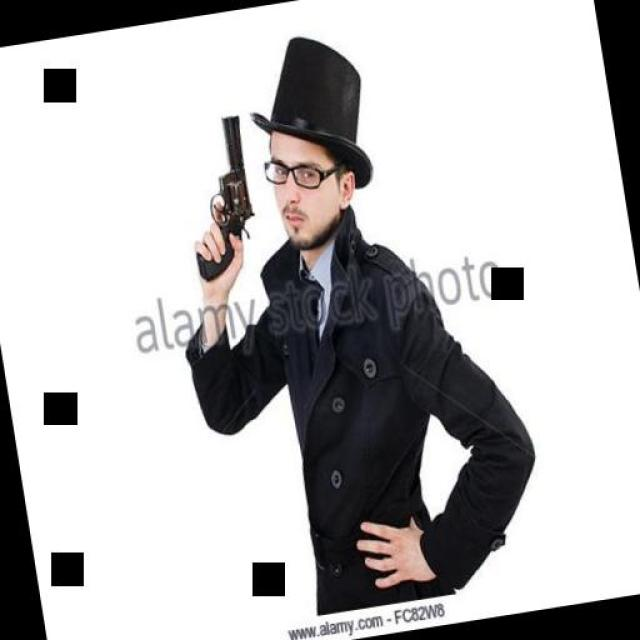gun: (172, 112, 266, 282)
